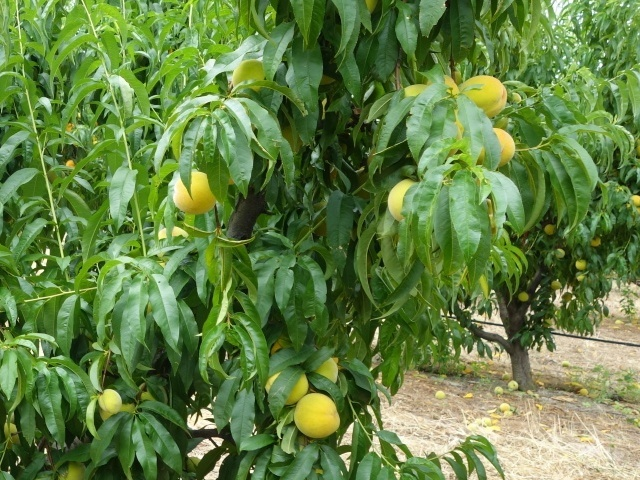peach: (171, 165, 221, 222), (265, 362, 314, 412), (459, 70, 509, 119), (297, 389, 343, 440), (383, 169, 418, 226), (481, 123, 519, 170), (229, 55, 272, 92), (311, 347, 345, 384), (52, 456, 90, 480), (95, 387, 125, 413)
